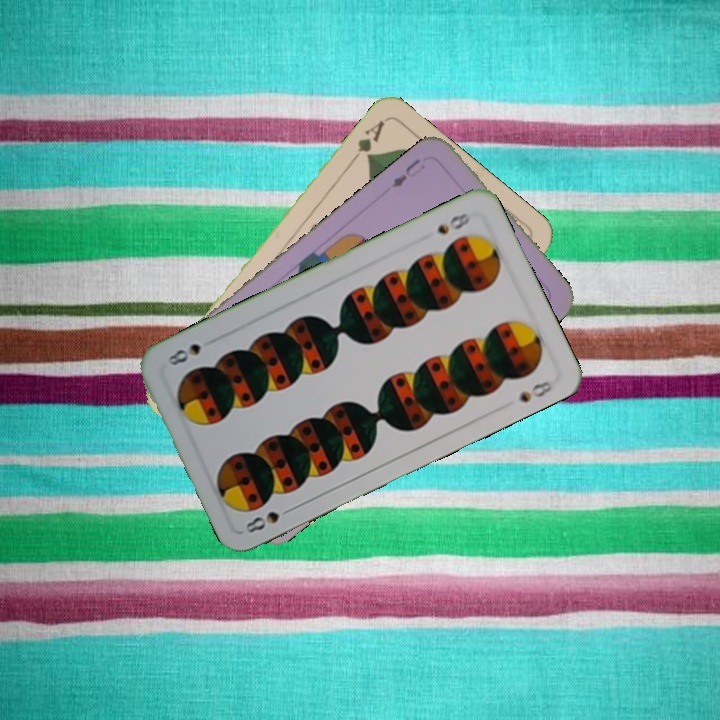EU: (387, 154, 428, 191)
GA: (346, 116, 387, 167)
S8: (241, 502, 297, 536), (432, 208, 473, 237)
